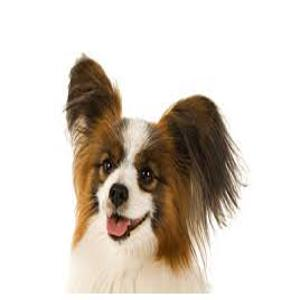yell: (66, 55, 243, 293)
